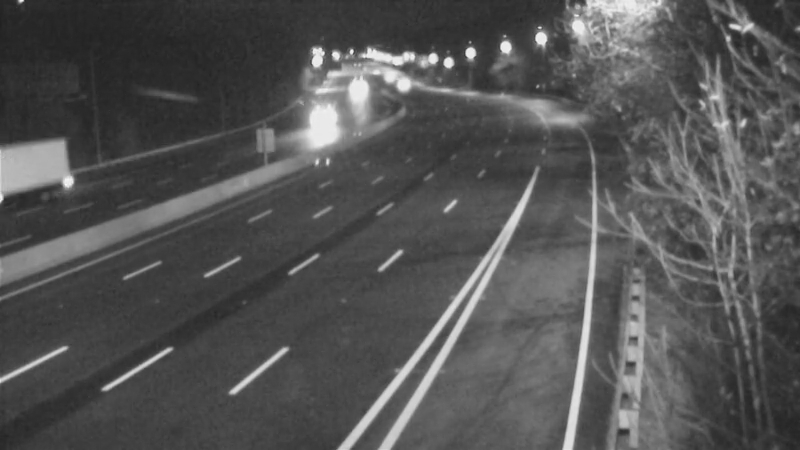vehicle: (1, 151, 73, 231), (374, 57, 424, 107), (364, 50, 414, 100), (290, 98, 340, 148), (332, 65, 382, 115)
